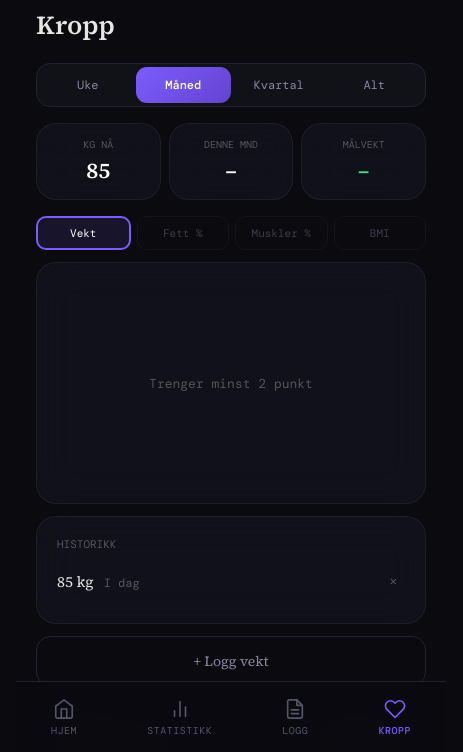
Test case: Body – weight tab › weight history delete: first click shows "Bekreft?"
The width and height of the screenshot is (463, 752).
Click the button "✕": x=393, y=581 top-left (382, 569), bottom-right (405, 593)
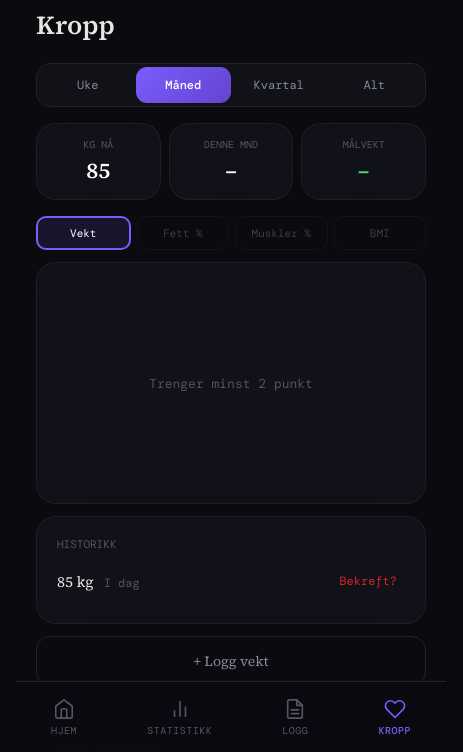
Check: the button "Bekreft?" is shown, box top-left (331, 569), bottom-right (405, 593)
